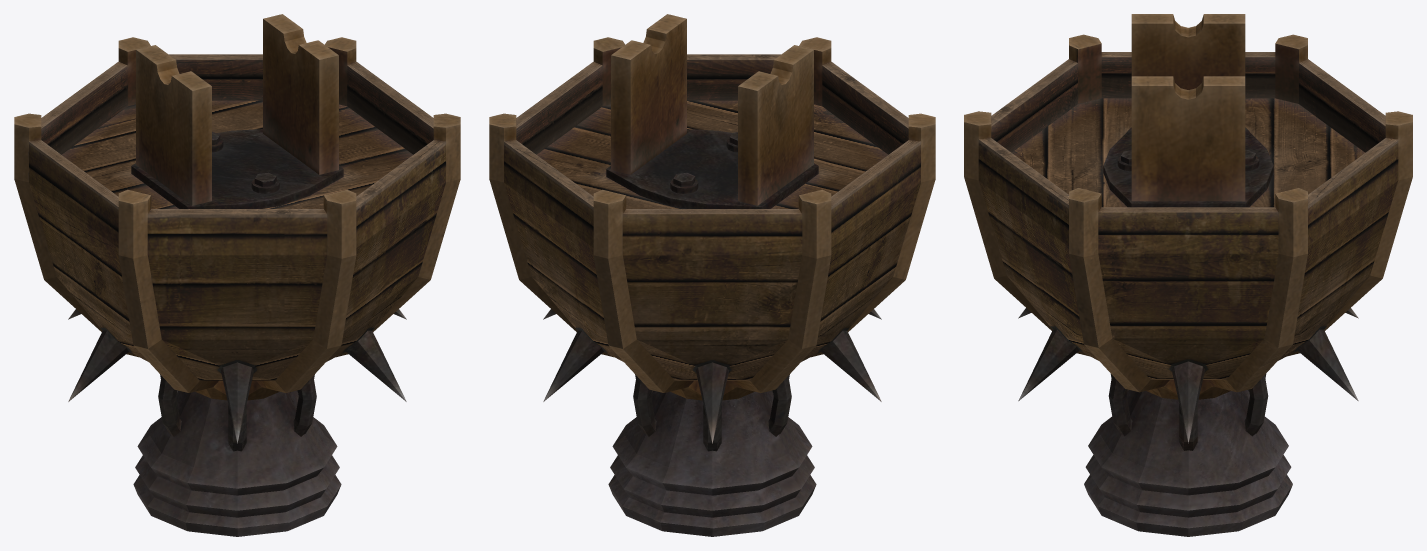
Rendered from flyingcannonplatform.obj.
3 renders of one model, left to right at view 1: azimuth 30°, elevation 25°; view 2: azimuth 150°, elevation 25°; view 3: azimuth 270°, elevation 25°, orthographic.
Visible parts, largest first — view 1: flyingplatformmesh; view 2: flyingplatformmesh; view 3: flyingplatformmesh.
Part boxes in pixels (x1,y1,x2,y2): flyingplatformmesh: [14, 14, 460, 536]; flyingplatformmesh: [489, 14, 935, 536]; flyingplatformmesh: [964, 14, 1412, 536].
Bounding box in the file's own units: 2.63 × 3.25 × 2.97.
